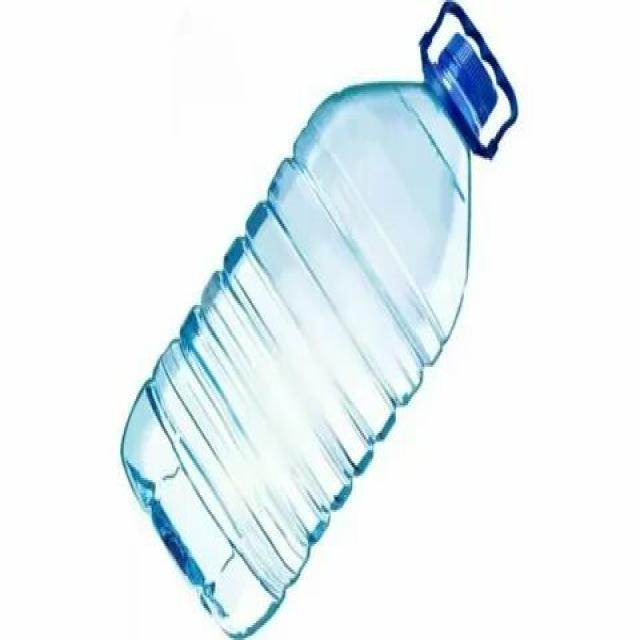blue: (119, 82, 472, 640)
